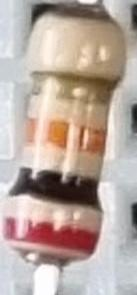Black: (7, 165, 103, 214)
Orange: (27, 118, 107, 160)
Red: (4, 217, 100, 257)
Side-Gold: (28, 69, 121, 107)
